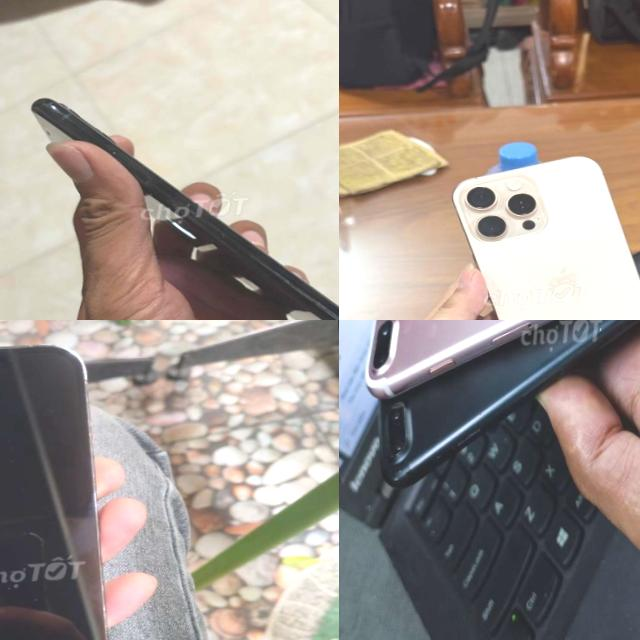gen_11: (32, 98, 339, 320)
gen_12_13: (0, 335, 122, 640)
gen_16: (454, 157, 640, 320)
gen_7_8: (369, 320, 556, 401)
scratch: (15, 94, 58, 122)
